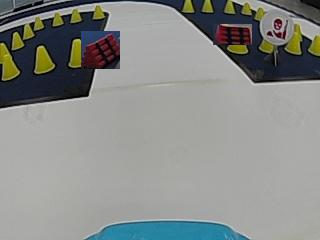evil: (259, 9, 291, 45)
